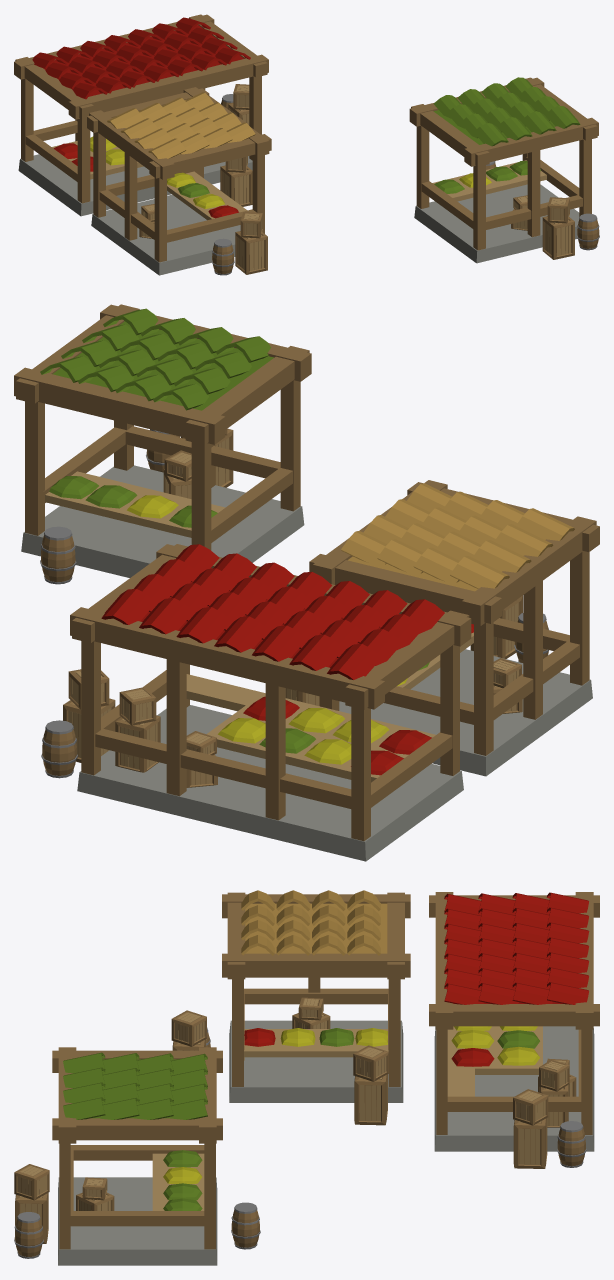
The model's file is Market Stall 5.fbx.
3 views of the same model, one above another, from view 1: azimuth 30°, elevation 25°; view 2: azimuth 150°, elevation 25°; view 3: azimuth 270°, elevation 25° (orthographic). The views are drawn at different scales.
Visible parts, largest first — view 1: Market_SecondAge_Level2; view 2: Market_SecondAge_Level2; view 3: Market_SecondAge_Level2.
Boxes of the visible parts, box(x1,y1,x2,y2) form: Market_SecondAge_Level2: box(14, 14, 599, 275); Market_SecondAge_Level2: box(14, 304, 599, 861); Market_SecondAge_Level2: box(14, 890, 599, 1265).
Bounding box in the file's own units: 192 × 59.23 × 201.
